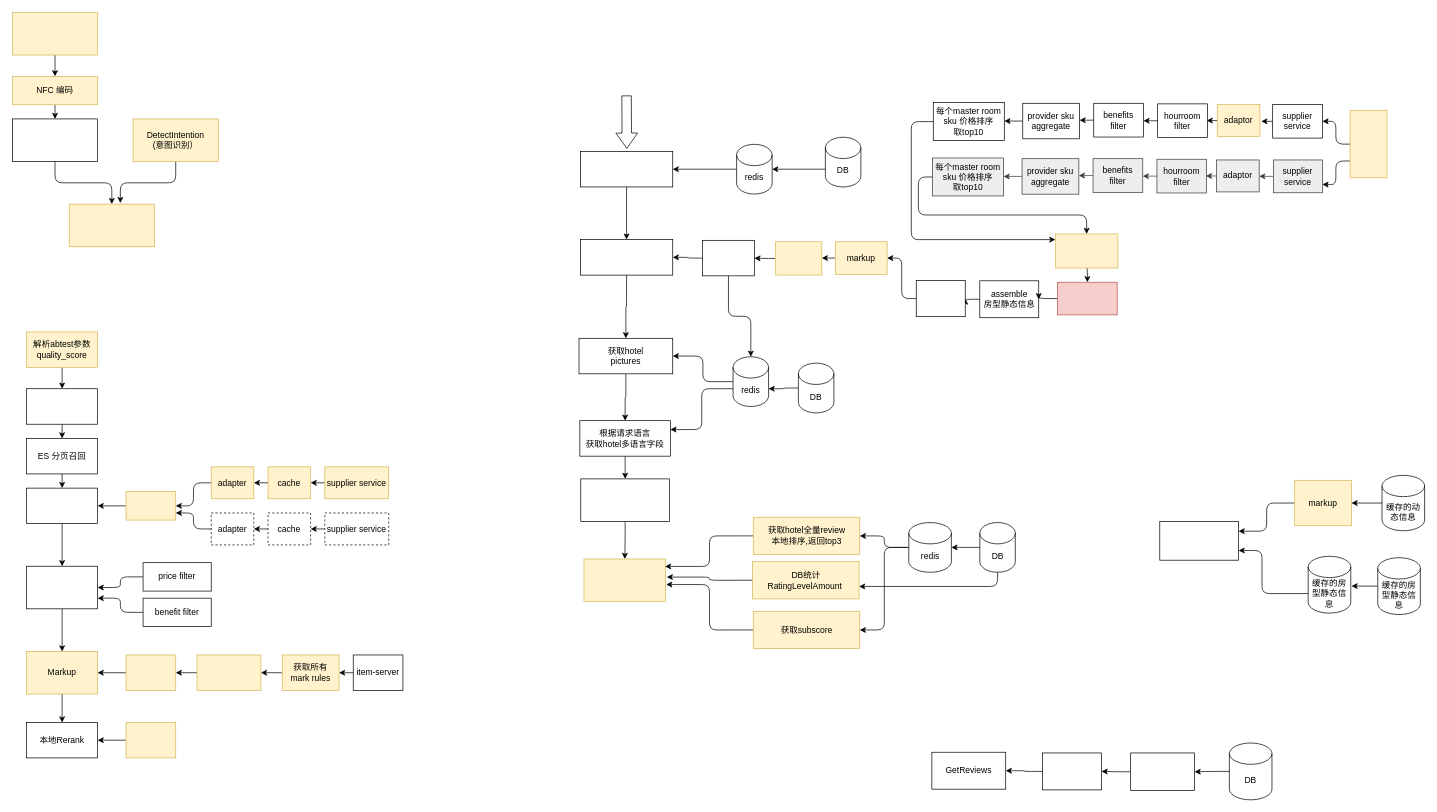
Some shapes in this 1437 by 812 pixel diagram are drawn without their labels. The centre of each missing label's shape, as x and y in pixels:
"aggregate" belongs at pixel 150 505.
"DB 分页（50）" belongs at pixel 1162 771.
"ES 匹配召回" belongs at pixel 55 140.
"fullfillement 信息组装 （包含原价、加价）" belongs at pixel 1199 540.
"markup 之后sort" belongs at pixel 798 258.
"replace word (搜索词替换）" belongs at pixel 55 33.
"ReRank （搜索词重排）" belongs at pixel 111 225.
"reviews" belongs at pixel 624 580.
"set cache （未加价）" belongs at pixel 728 258.
"shopee mater room 聚合" belongs at pixel 1086 250.
"Soldout 沉底" belongs at pixel 150 740.
"主房型sort" belongs at pixel 940 298.
"动态sku聚合" belongs at pixel 1087 298.
"匹配hotel 高优规则" belongs at pixel 228 672.
"异步任务 请求额外信息" belongs at pixel 626 257.
"本地排序" belongs at pixel 1072 771.
"构造ES DSL" belongs at pixel 62 406.
"查询ES 哪些供应商提供 shopee hotel" belongs at pixel 1368 144.
"等待异步任务 处理结束或超时" belongs at pixel 625 499.
"获取hotel basic info" belongs at pixel 626 169.
"获取动态信息" belongs at pixel 62 505.
"计算价格" belongs at pixel 150 672.
"过滤" belongs at pixel 62 587.
